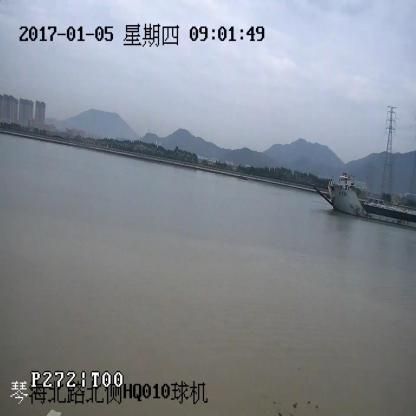Bulk Carrier: (314, 173, 415, 229)
